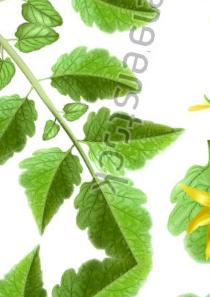Tomato leaf: (58, 82, 194, 204), (69, 169, 186, 272), (30, 30, 157, 122), (5, 122, 91, 247), (0, 87, 44, 206)
